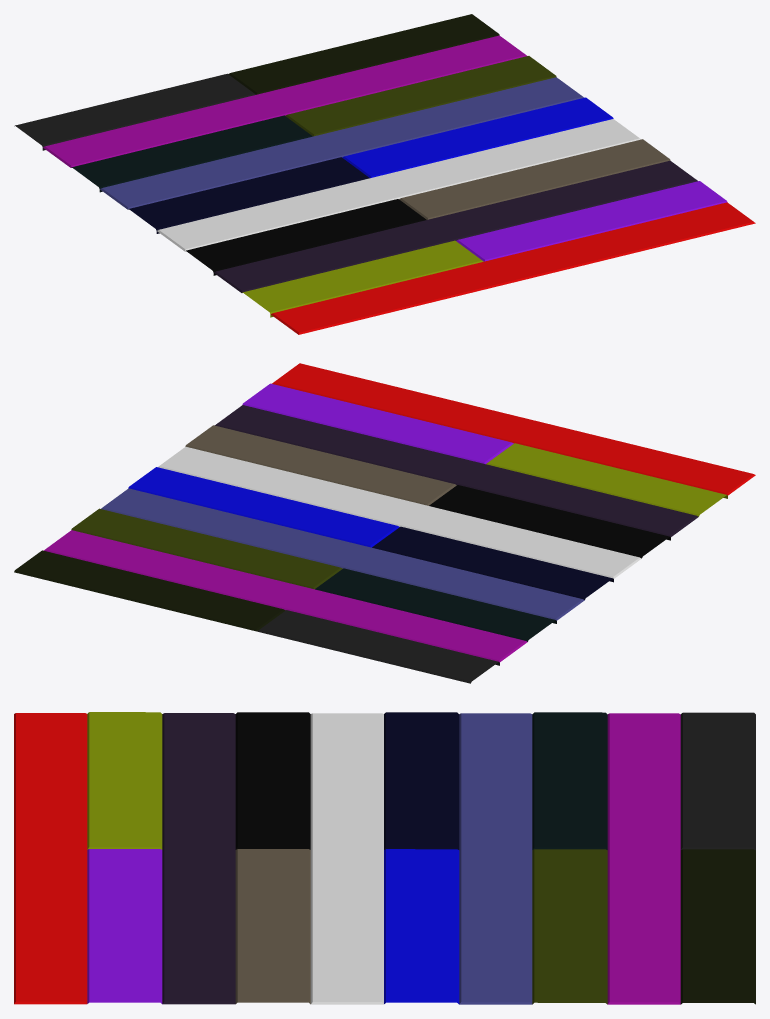
File: SM_Floor.fbx
3 views of the same model, one above another, from view 1: azimuth 30°, elevation 25°; view 2: azimuth 150°, elevation 25°; view 3: azimuth 270°, elevation 25° (orthographic). The views are drawn at different scales.
Parts seen in each view (by area): view 1: pCube39; view 2: pCube39; view 3: pCube39.
Boxes of the visible parts, x1=… form: pCube39: x1=14, y1=14, x2=755, y2=334; pCube39: x1=14, y1=363, x2=755, y2=683; pCube39: x1=14, y1=712, x2=755, y2=1004.
Bounding box in the file's own units: 188 × 1.87 × 203.
